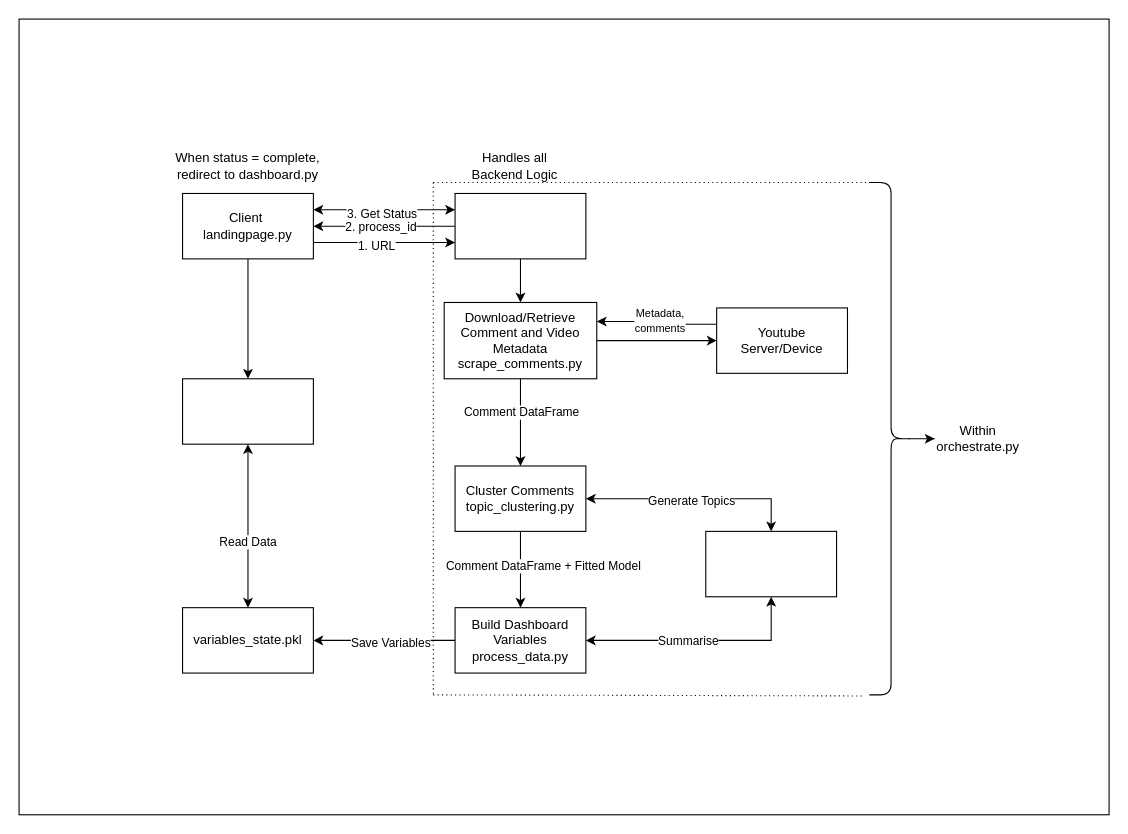
Image size: 1128x834. Some labels were removed from this diagram. The shapes that lost their labels are listed below. From the top down, each one's centre as x and y in pixels, then its label:
point 520,225: Orchestrator orchestrate.py
point 247,411: Dashboard dashboard.py
point 771,563: Ollama
